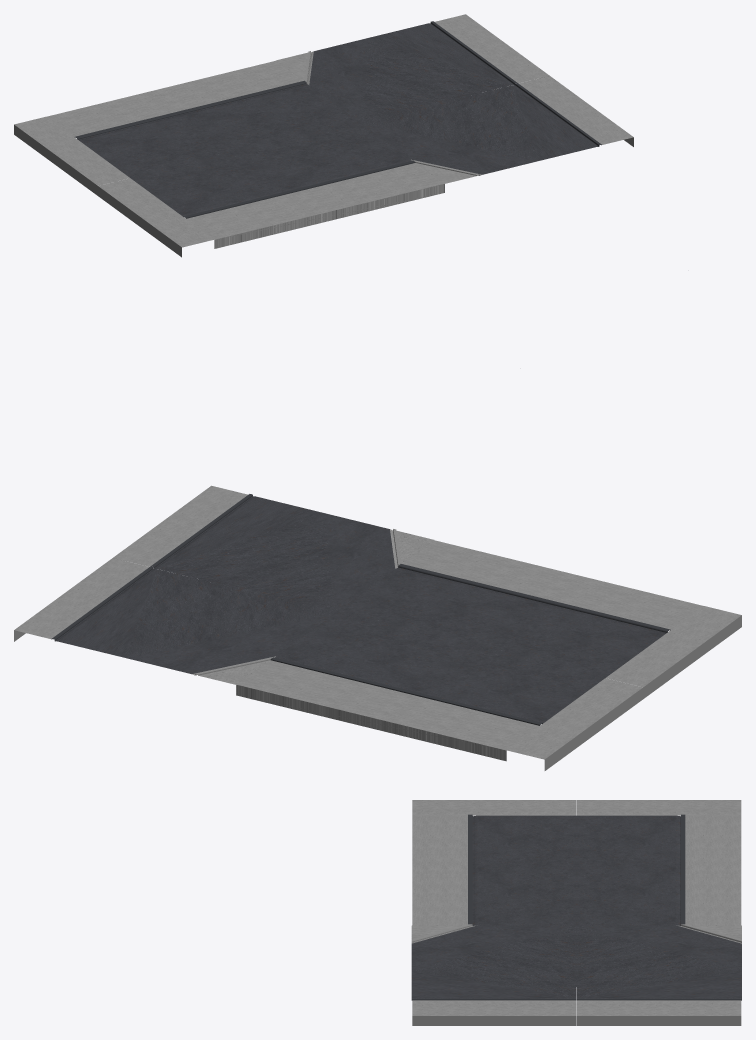
Rendered from TJunctionDeadEnd.dae.
3 views of the same model, one above another, from view 1: azimuth 30°, elevation 25°; view 2: azimuth 150°, elevation 25°; view 3: azimuth 270°, elevation 25° (orthographic). The views are drawn at different scales.
Parts seen in each view (by area): view 1: RoadStraight.003; view 2: RoadStraight.003; view 3: RoadStraight.003.
Part boxes in pixels (<box>): RoadStraight.003: <box>14,14,633,257</box>; RoadStraight.003: <box>14,485,741,770</box>; RoadStraight.003: <box>411,800,741,1025</box>.
Bounding box in the file's own units: 49.1 × 70 × 1.14.
Materials: 3 (3 with a texture image).
